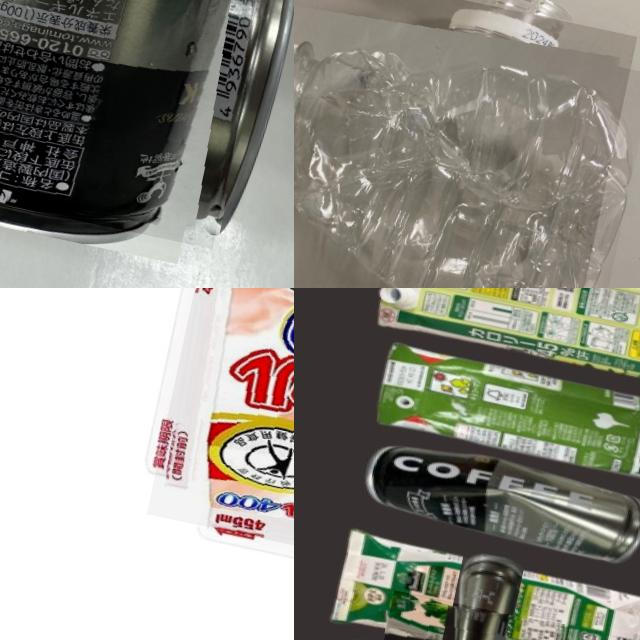Aluminium Foil: (146, 288, 294, 584), (368, 338, 640, 485), (324, 528, 640, 640), (370, 288, 640, 397)
Can: (0, 0, 290, 247), (360, 433, 640, 563), (356, 588, 571, 640)
Transparent Plastic Bottle: (294, 0, 637, 288)
